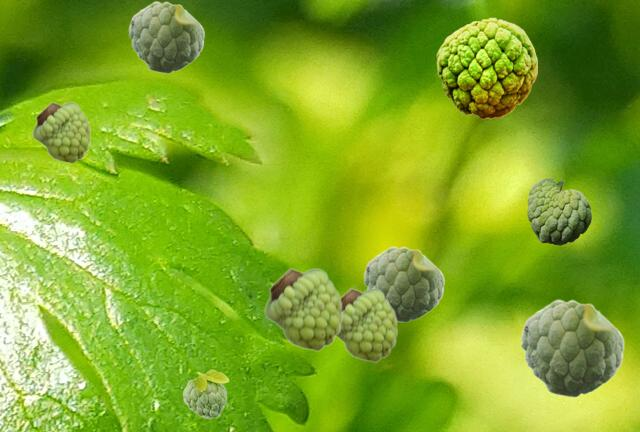atis: (436, 17, 536, 118), (520, 299, 624, 396), (264, 267, 342, 351), (363, 246, 444, 321), (128, 1, 204, 72), (336, 287, 397, 362), (527, 177, 590, 244), (32, 101, 90, 163), (182, 369, 228, 418)
